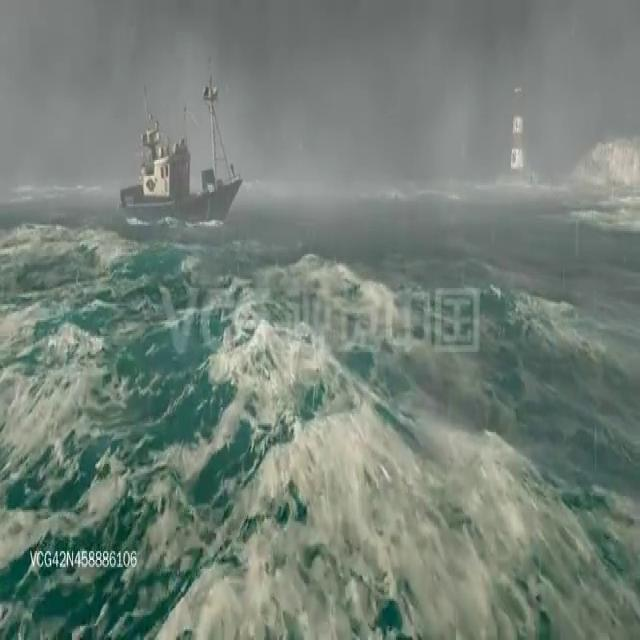fishing boat: (118, 65, 246, 217)
